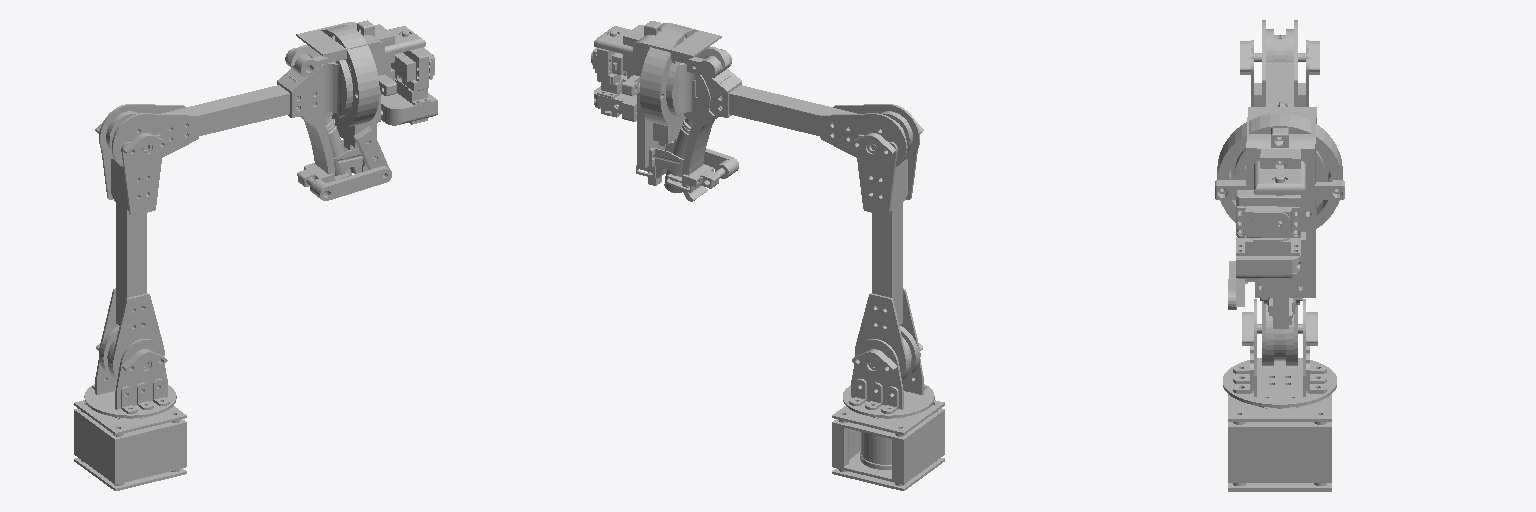
The robot description file, URDF, robot "ARM_THEEND":
<?xml version="1.0" encoding="utf-8"?>
<!-- This URDF was automatically created by SolidWorks to URDF Exporter! Originally created by [author] ([email redacted]) 
     Commit Version: 1.6.0-4-g7f85cfe  Build Version: 1.6.7995.38578
     For more information, please see http://wiki.ros.org/sw_urdf_exporter -->
<robot
  name="ARM_THEEND">
  <link
    name="base_link">
    <inertial>
      <origin
        xyz="-2.3158E-07 -0.0066564 0.035"
        rpy="0 0 0" />
      <mass
        value="1.3468" />
      <inertia
        ixx="0.001167"
        ixy="1.0458E-11"
        ixz="-1.3577E-14"
        iyy="0.001545"
        iyz="-3.1447E-14"
        izz="0.0023418" />
    </inertial>
    <visual>
      <origin
        xyz="0 0 0"
        rpy="0 0 0" />
      <geometry>
        <mesh
          filename="package://ARM_THEEND/meshes/base_link.STL" />
      </geometry>
      <material
        name="">
        <color
          rgba="0.75294 0.75294 0.75294 1" />
      </material>
    </visual>
    <collision>
      <origin
        xyz="0 0 0"
        rpy="0 0 0" />
      <geometry>
        <mesh
          filename="package://ARM_THEEND/meshes/base_link.STL" />
      </geometry>
    </collision>
  </link>
  <link
    name="Link 1 -  Purple">
    <inertial>
      <origin
        xyz="0.00046267 2.9711E-08 0.073537"
        rpy="0 0 0" />
      <mass
        value="0.32698" />
      <inertia
        ixx="0.00012213"
        ixy="-1.5392E-11"
        ixz="4.8687E-09"
        iyy="0.00013423"
        iyz="-6.6384E-11"
        izz="0.00011637" />
    </inertial>
    <visual>
      <origin
        xyz="0 0 0"
        rpy="0 0 0" />
      <geometry>
        <mesh
          filename="package://ARM_THEEND/meshes/Link 1 -  Purple.STL" />
      </geometry>
      <material
        name="">
        <color
          rgba="0.75294 0.75294 0.75294 1" />
      </material>
    </visual>
    <collision>
      <origin
        xyz="0 0 0"
        rpy="0 0 0" />
      <geometry>
        <mesh
          filename="package://ARM_THEEND/meshes/Link 1 -  Purple.STL" />
      </geometry>
    </collision>
  </link>
  <joint
    name="J1"
    type="revolute">
    <origin
      xyz="0 0 0.0025"
      rpy="0 0 0" />
    <parent
      link="base_link" />
    <child
      link="Link 1 -  Purple" />
    <axis
      xyz="0 0 1" />
    <limit
      lower="3.14"
      upper="-3.14"
      effort="10"
      velocity="100" />
  </joint>
  <link
    name="Link 2 - Orange ">
    <inertial>
      <origin
        xyz="1.4741E-05 0.1172 2.5296E-08"
        rpy="0 0 0" />
      <mass
        value="0.52341" />
      <inertia
        ixx="0.00097448"
        ixy="-8.3757E-09"
        ixz="-3.1016E-11"
        iyy="0.00010116"
        iyz="3.7769E-11"
        izz="0.0010034" />
    </inertial>
    <visual>
      <origin
        xyz="0 0 0"
        rpy="0 0 0" />
      <geometry>
        <mesh
          filename="package://ARM_THEEND/meshes/Link 2 - Orange .STL" />
      </geometry>
      <material
        name="">
        <color
          rgba="0.75294 0.75294 0.75294 1" />
      </material>
    </visual>
    <collision>
      <origin
        xyz="0 0 0"
        rpy="0 0 0" />
      <geometry>
        <mesh
          filename="package://ARM_THEEND/meshes/Link 2 - Orange .STL" />
      </geometry>
    </collision>
  </link>
  <joint
    name="J2"
    type="revolute">
    <origin
      xyz="0.0013777 0 0.133"
      rpy="1.5708 0 0" />
    <parent
      link="Link 1 -  Purple" />
    <child
      link="Link 2 - Orange " />
    <axis
      xyz="0 0 -1" />
    <limit
      lower="3.14"
      upper="-3.14"
      effort="10"
      velocity="100" />
  </joint>
  <link
    name="Link 3 - Pink ">
    <inertial>
      <origin
        xyz="5.5742E-10 0.096957 9.6606E-09"
        rpy="0 0 0" />
      <mass
        value="0.38751" />
      <inertia
        ixx="0.00093492"
        ixy="-7.2493E-10"
        ixz="1.2482E-13"
        iyy="7.5928E-05"
        iyz="2.4698E-12"
        izz="0.00094339" />
    </inertial>
    <visual>
      <origin
        xyz="0 0 0"
        rpy="0 0 0" />
      <geometry>
        <mesh
          filename="package://ARM_THEEND/meshes/Link 3 - Pink .STL" />
      </geometry>
      <material
        name="">
        <color
          rgba="0.75294 0.75294 0.75294 1" />
      </material>
    </visual>
    <collision>
      <origin
        xyz="0 0 0"
        rpy="0 0 0" />
      <geometry>
        <mesh
          filename="package://ARM_THEEND/meshes/Link 3 - Pink .STL" />
      </geometry>
    </collision>
  </link>
  <joint
    name="J3"
    type="revolute">
    <origin
      xyz="0.00014239 0.26004 0"
      rpy="0 0 -1.5708" />
    <parent
      link="Link 2 - Orange " />
    <child
      link="Link 3 - Pink " />
    <axis
      xyz="0 0 -1" />
    <limit
      lower="3.14"
      upper="-3.14"
      effort="10"
      velocity="100" />
  </joint>
  <link
    name="Link 4 - Green">
    <inertial>
      <origin
        xyz="0.0032128 -0.00097543 -0.068412"
        rpy="0 0 0" />
      <mass
        value="0.86141" />
      <inertia
        ixx="0.00052958"
        ixy="-4.342E-07"
        ixz="-7.7614E-07"
        iyy="0.00053478"
        iyz="3.2754E-06"
        izz="0.00090917" />
    </inertial>
    <visual>
      <origin
        xyz="0 0 0"
        rpy="0 0 0" />
      <geometry>
        <mesh
          filename="package://ARM_THEEND/meshes/Link 4 - Green.STL" />
      </geometry>
      <material
        name="">
        <color
          rgba="0.75294 0.75294 0.75294 1" />
      </material>
    </visual>
    <collision>
      <origin
        xyz="0 0 0"
        rpy="0 0 0" />
      <geometry>
        <mesh
          filename="package://ARM_THEEND/meshes/Link 4 - Green.STL" />
      </geometry>
    </collision>
  </link>
  <joint
    name="J4"
    type="revolute">
    <origin
      xyz="-0.01025 0.34307 0"
      rpy="-1.5708 0 0" />
    <parent
      link="Link 3 - Pink " />
    <child
      link="Link 4 - Green" />
    <axis
      xyz="0 0 -1" />
    <limit
      lower="3.14"
      upper="-3.14"
      effort="10"
      velocity="100" />
  </joint>
  <link
    name="Link 5 - Yellow ">
    <inertial>
      <origin
        xyz="0.0082023 0.0022224 0.0024521"
        rpy="0 0 0" />
      <mass
        value="0.084476" />
      <inertia
        ixx="8.4145E-06"
        ixy="3.0279E-08"
        ixz="-2.0302E-08"
        iyy="1.7711E-05"
        iyz="5.2946E-08"
        izz="2.0142E-05" />
    </inertial>
    <visual>
      <origin
        xyz="0 0 0"
        rpy="0 0 0" />
      <geometry>
        <mesh
          filename="package://ARM_THEEND/meshes/Link 5 - Yellow .STL" />
      </geometry>
      <material
        name="">
        <color
          rgba="0.75294 0.75294 0.75294 1" />
      </material>
    </visual>
    <collision>
      <origin
        xyz="0 0 0"
        rpy="0 0 0" />
      <geometry>
        <mesh
          filename="package://ARM_THEEND/meshes/Link 5 - Yellow .STL" />
      </geometry>
    </collision>
  </link>
  <joint
    name="J5"
    type="revolute">
    <origin
      xyz="0 0 0"
      rpy="1.5708 0.017993 -1.5708" />
    <parent
      link="Link 4 - Green" />
    <child
      link="Link 5 - Yellow " />
    <axis
      xyz="0 0 -1" />
    <limit
      lower="3.14"
      upper="-3.14"
      effort="10"
      velocity="100" />
  </joint>
  <link
    name="Link 6 - Magenta">
    <inertial>
      <origin
        xyz="0.033389 0.001235 0.084802"
        rpy="0 0 0" />
      <mass
        value="1.019" />
      <inertia
        ixx="0.00030271"
        ixy="9.4028E-07"
        ixz="7.2515E-05"
        iyy="0.0005829"
        iyz="3.8899E-07"
        izz="0.00054766" />
    </inertial>
    <visual>
      <origin
        xyz="0 0 0"
        rpy="0 0 0" />
      <geometry>
        <mesh
          filename="package://ARM_THEEND/meshes/Link 6 - Magenta.STL" />
      </geometry>
      <material
        name="">
        <color
          rgba="0.75294 0.75294 0.75294 1" />
      </material>
    </visual>
    <collision>
      <origin
        xyz="0 0 0"
        rpy="0 0 0" />
      <geometry>
        <mesh
          filename="package://ARM_THEEND/meshes/Link 6 - Magenta.STL" />
      </geometry>
    </collision>
  </link>
  <joint
    name="J6"
    type="revolute">
    <origin
      xyz="0 0 0"
      rpy="1.5708 1.5708 0" />
    <parent
      link="Link 5 - Yellow " />
    <child
      link="Link 6 - Magenta" />
    <axis
      xyz="0 0 -1" />
    <limit
      lower="3.14"
      upper="-3.14"
      effort="10"
      velocity="100" />
  </joint>
</robot>

--- What the picture shows (computed from the rendered views, not written in the file) ---
Views: 3 orthographic renders of the robot side by side, from view 1: azimuth 30°, elevation 25°; view 2: azimuth 150°, elevation 25°; view 3: azimuth 270°, elevation 25°.
Robot: ARM_THEEND — 7 links, 6 joints (6 revolute); root link base_link; default pose: all joints at 0.
Visible links, largest first — view 1: Link 2 - Orange, Link 4 - Green, Link 6 - Magenta, base_link, Link 3 - Pink, Link 1 -  Purple, Link 5 - Yellow; view 2: Link 6 - Magenta, Link 2 - Orange, Link 4 - Green, base_link, Link 3 - Pink, Link 1 -  Purple, Link 5 - Yellow; view 3: Link 4 - Green, base_link, Link 6 - Magenta, Link 1 -  Purple, Link 2 - Orange, Link 5 - Yellow, Link 3 - Pink.
Link boxes in pixels (x1,y1,x2,y2): Link 2 - Orange: (95,124,167,379); Link 4 - Green: (277,20,437,127); Link 6 - Magenta: (285,22,394,200); base_link: (74,400,186,490); Link 3 - Pink: (99,85,299,166); Link 1 -  Purple: (84,339,176,418); Link 5 - Yellow: (391,31,434,91); Link 6 - Magenta: (623,23,738,201); Link 2 - Orange: (851,122,923,379); Link 4 - Green: (594,21,741,127); base_link: (832,400,944,490); Link 3 - Pink: (720,85,919,166); Link 1 -  Purple: (843,339,934,464); Link 5 - Yellow: (591,31,626,84); Link 4 - Green: (1215,113,1344,281); base_link: (1228,394,1331,491); Link 6 - Magenta: (1228,102,1316,328); Link 1 -  Purple: (1223,299,1336,408); Link 2 - Orange: (1240,40,1319,365); Link 5 - Yellow: (1236,175,1300,237); Link 3 - Pink: (1251,20,1308,106).
Bounding box of the posed robot: 0.4221 × 0.113 × 0.4628 m (x, y, z).
7 mesh visuals loaded from 7 distinct referenced files (7 binary STL).